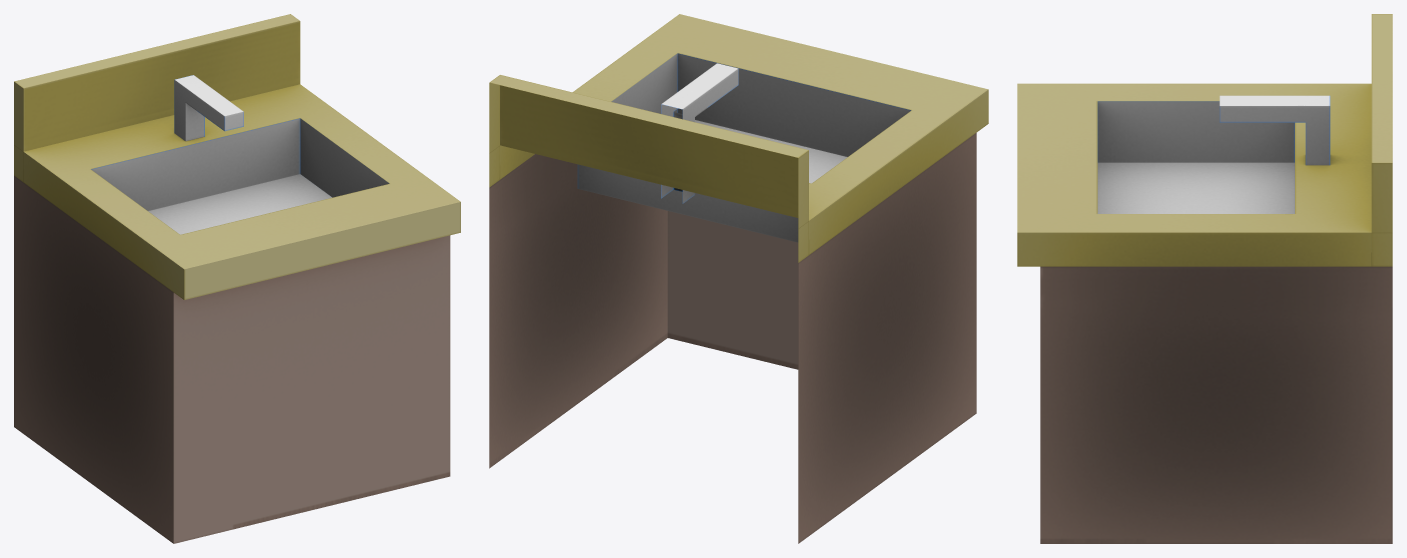
Rendered from Boss Counter with Sink.fbx.
3 renders of one model, left to right at view 1: azimuth 30°, elevation 25°; view 2: azimuth 150°, elevation 25°; view 3: azimuth 270°, elevation 25°, orthographic. The views are drawn at different scales.
Visible parts, largest first — view 1: Counter_with_sink1; view 2: Counter_with_sink1; view 3: Counter_with_sink1.
Part boxes in pixels (left/top/right/bottom): Counter_with_sink1: left=14, top=14, right=460, bottom=543; Counter_with_sink1: left=489, top=14, right=988, bottom=543; Counter_with_sink1: left=1017, top=14, right=1392, bottom=543.
Size of the model in its own units: 41.93 by 50.05 by 44.71.
1 material, 1 textured.
